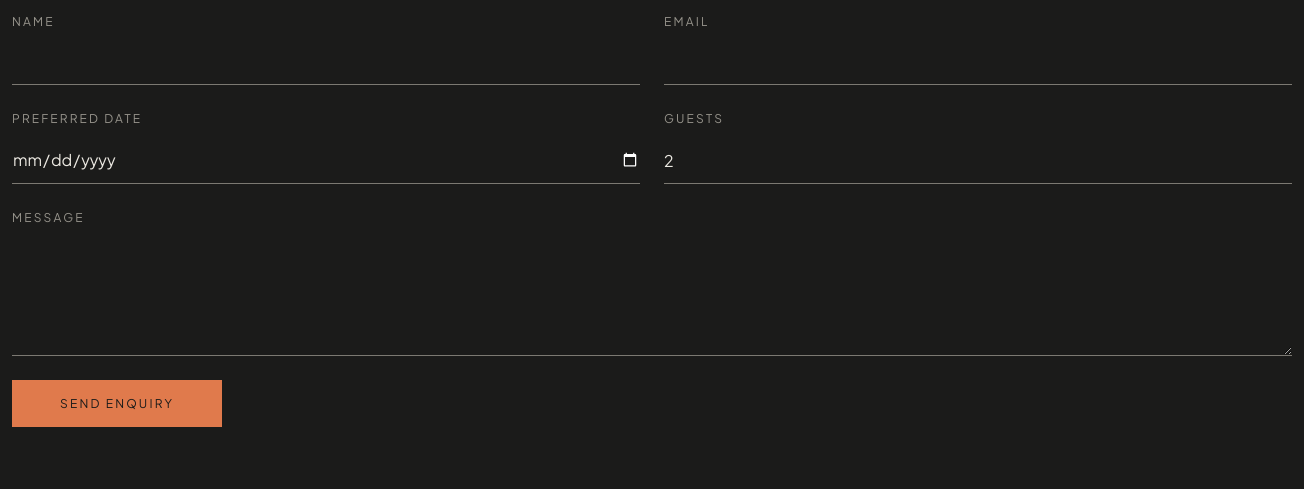
Scenario: EnquiryForm › confirms the enquiry once every field is valid
The width and height of the screenshot is (1304, 489).
In the field labelled "Name": (326, 62) [12,39,640,85], type "Alex"
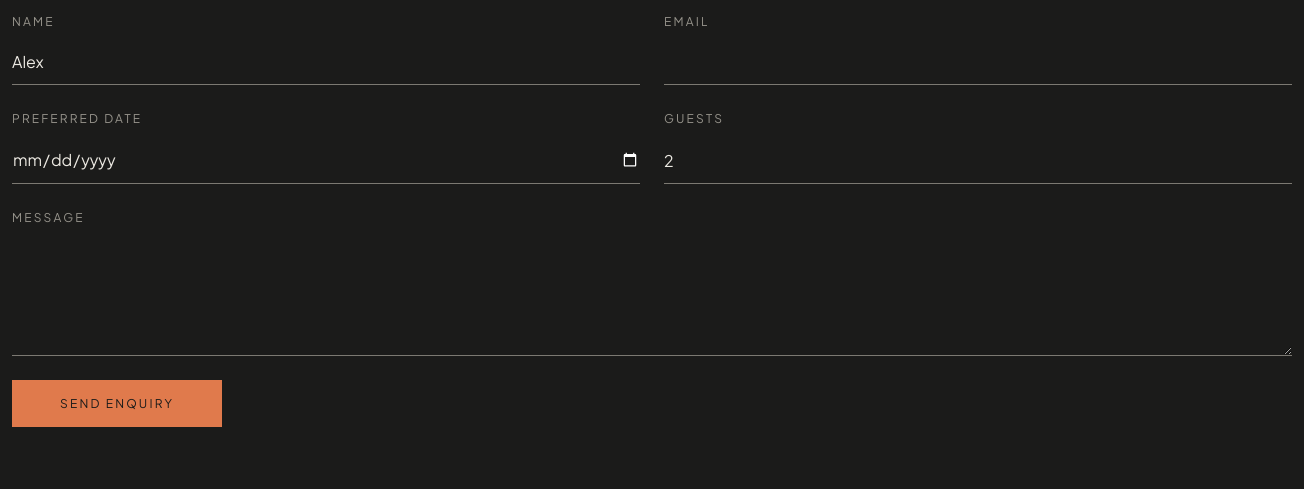
In the field labelled "Email": (978, 62) [664,39,1292,85], type "alex@example.com"
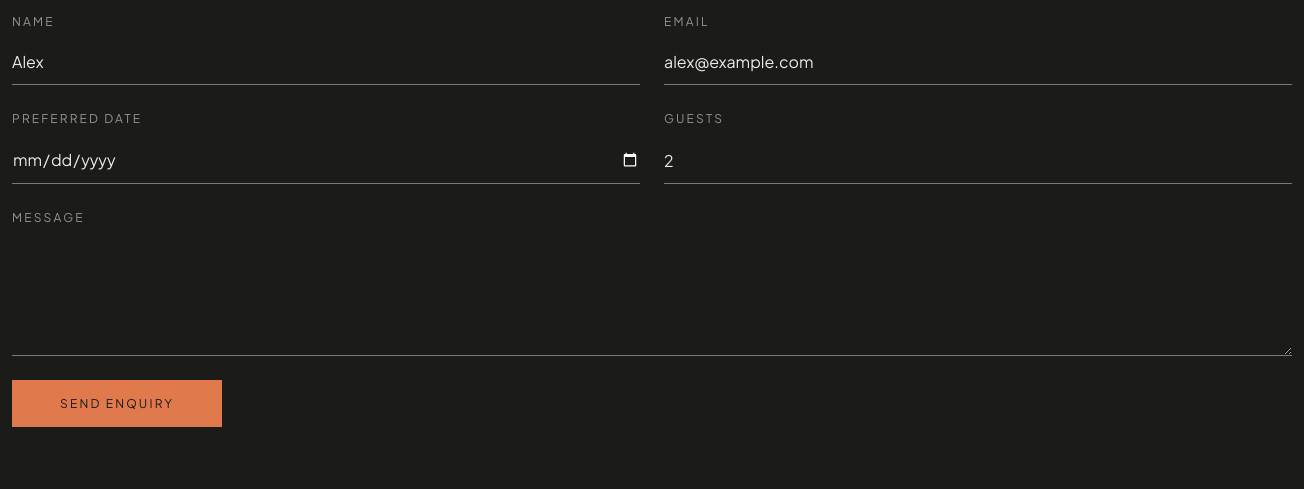
In the date field labelled "Preferred date": (326, 160) [12,136,640,184], type "2026-10-02"
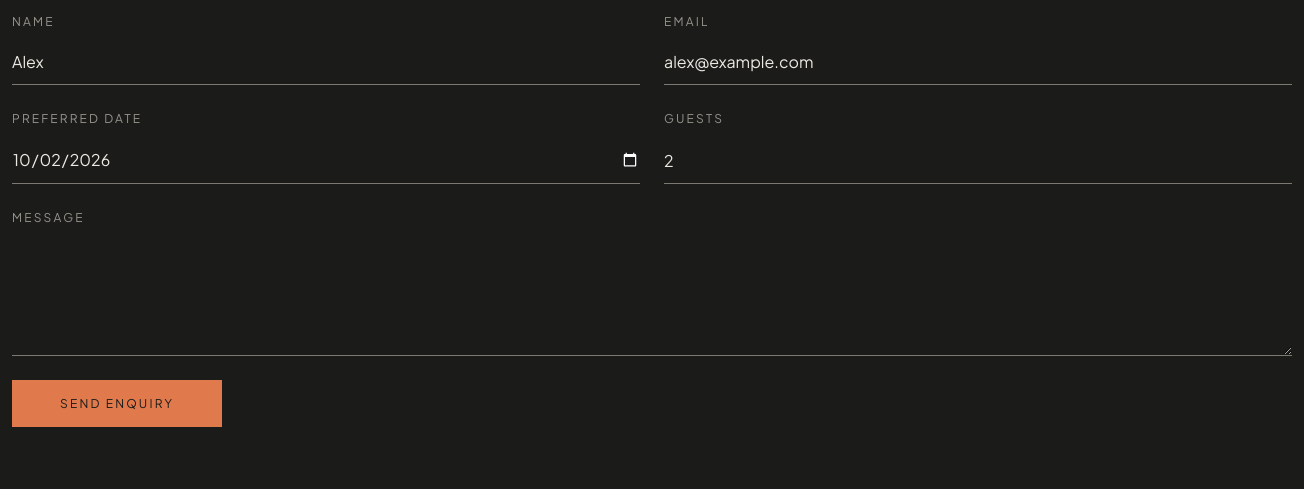
Replace the text in the number field labelled "Guests" with "4": (978, 161) [664,137,1292,184]
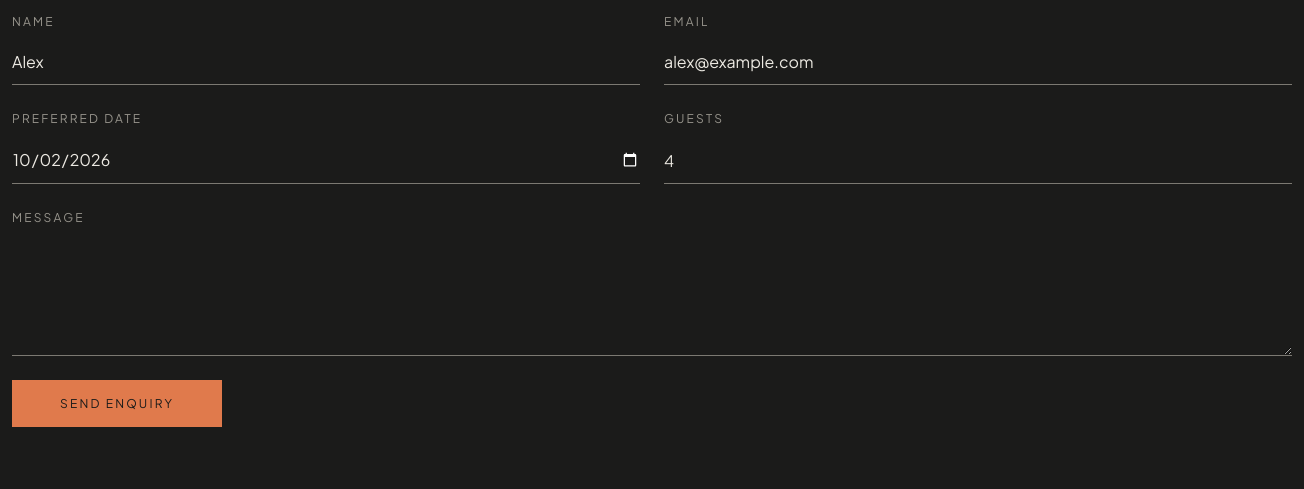
In the text box labelled "Message": (652, 296) [12,236,1292,356], type "Birthday dinner"
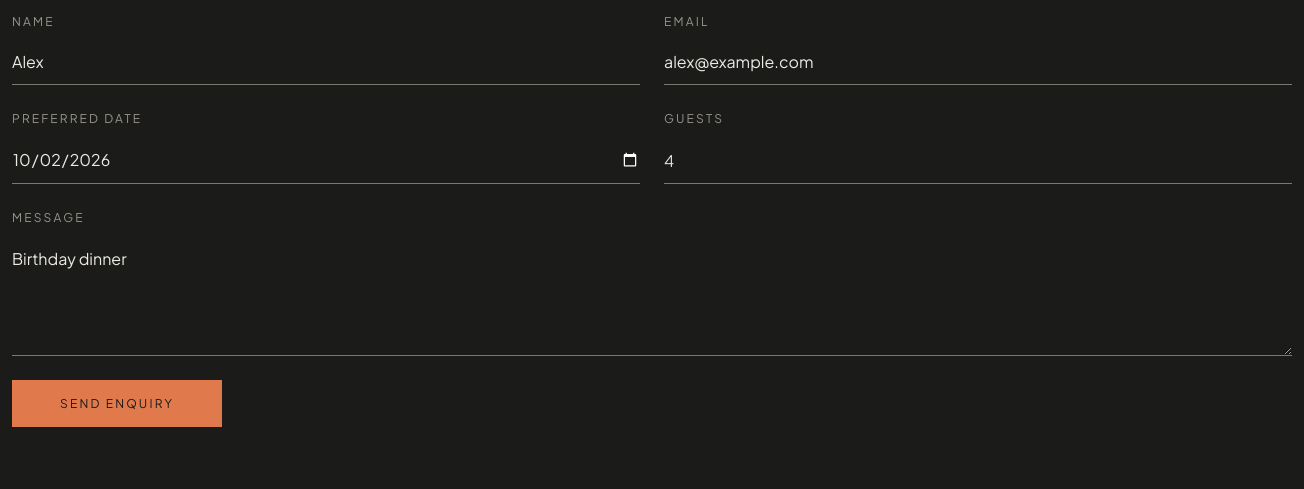
Click the button "Send enquiry": (117, 403) [12,380,222,427]
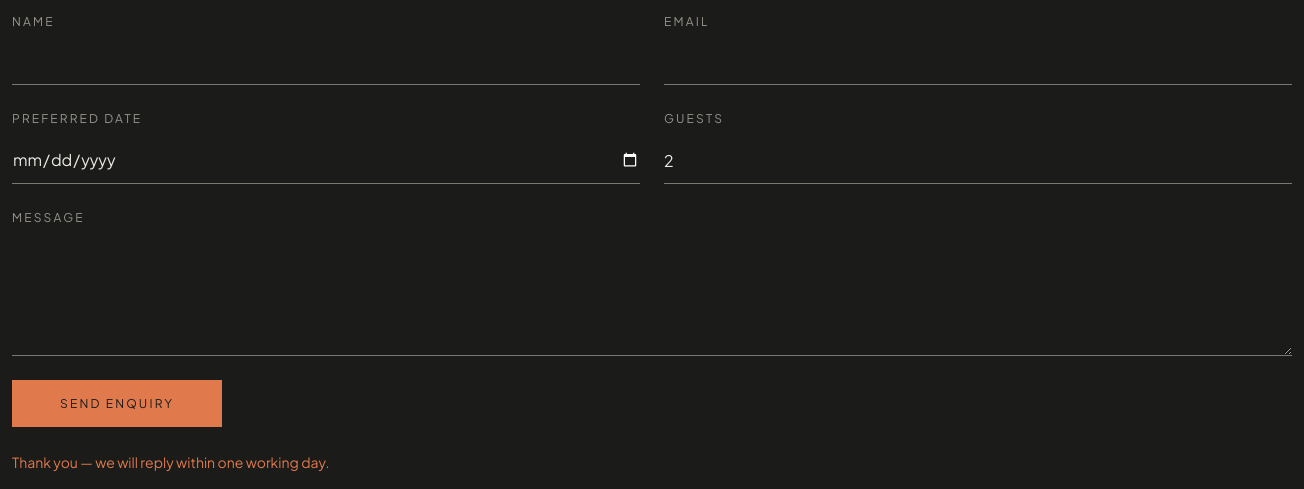
Result: the message reads "Thank you — we will reply within one working day." at [12,453,330,471]
